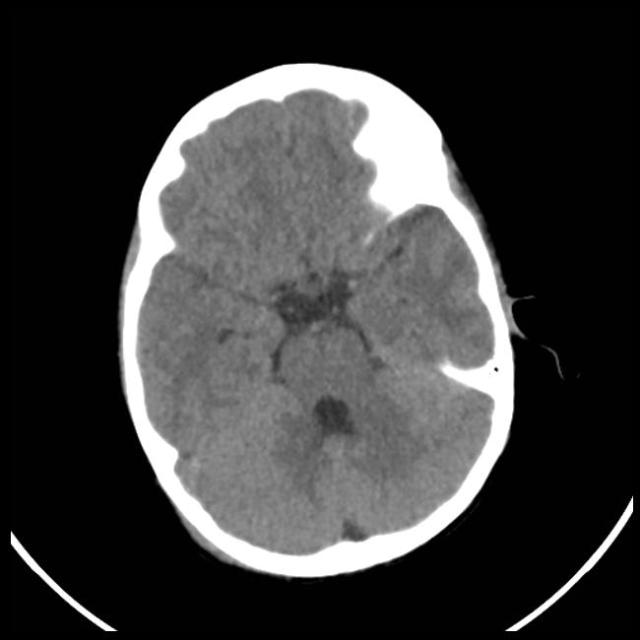lesion: (117, 67, 522, 574)
